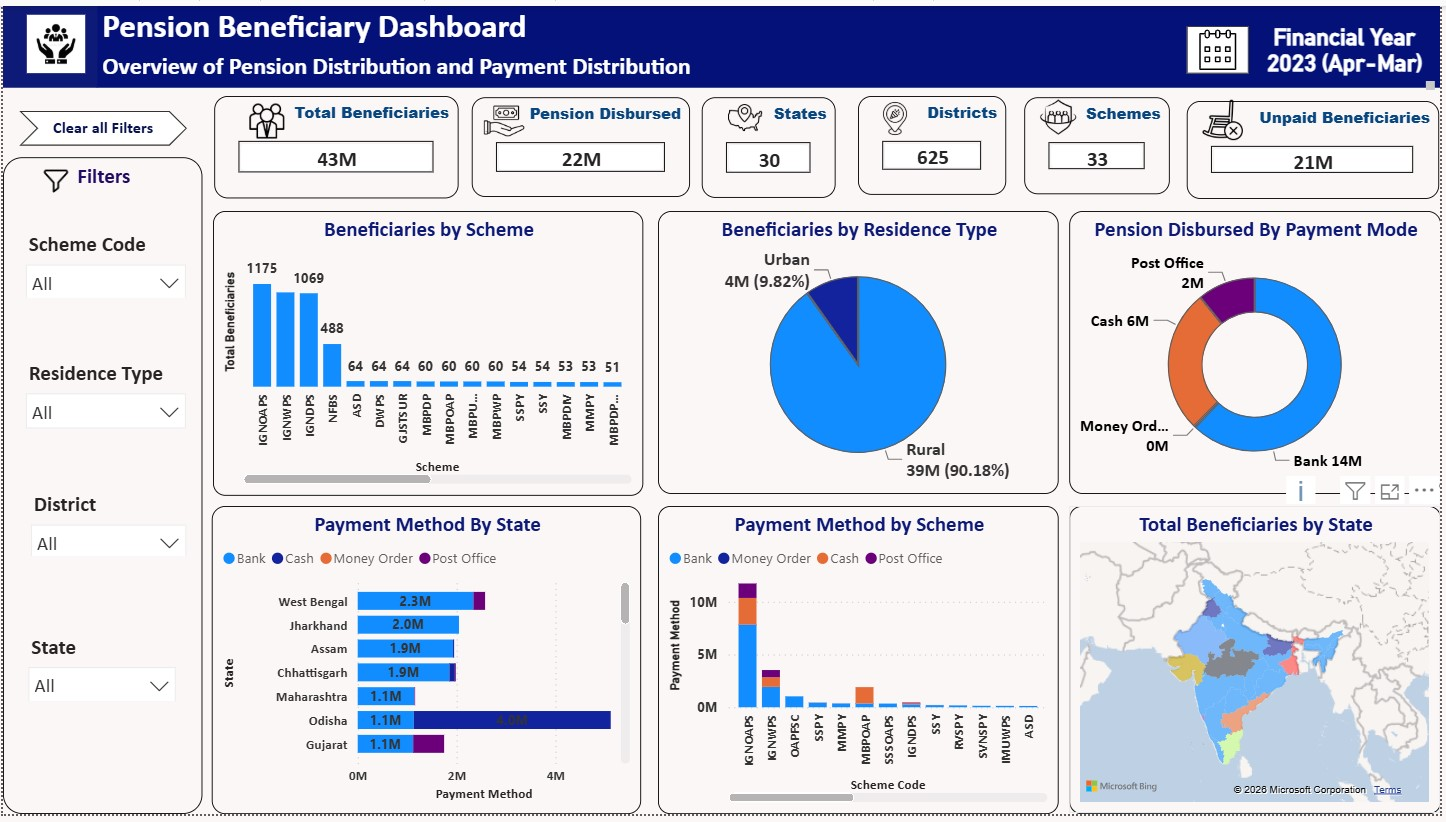

The dashboard page shown, as its layout file describes it:
{"tool":"powerbi","page":{"name":"Page 1","canvas":[1280,720],"ordinal":0},"visuals":[{"type":"textbox","title":"Pension Beneficiary Dashboard","box":[83.7,0,1196.6,72.7],"z":0},{"type":"cardVisual","title":"Pension Disbursed","fields":{"Data":["Measure Table.Total Payments"]},"box":[417.4,81.5,194.6,89.1],"z":1000},{"type":"cardVisual","title":"Districts","fields":{"Data":["Measure Table.Total District"]},"box":[761.7,80.2,132.1,87.7],"z":2000},{"type":"cardVisual","title":"States","fields":{"Data":["Measure Table.Total States"]},"box":[622.1,81.8,119.5,89.6],"z":3000},{"type":"cardVisual","title":"Schemes","fields":{"Data":["Measure Table.Total Schemes"]},"box":[909.9,81.5,129.6,86.4],"z":4000},{"type":"textbox","title":"Financial Year 2023 (Apr-Mar)","box":[1108.8,15.1,171.5,64.5],"z":5000},{"type":"image","box":[1053.9,17.8,54.9,42.5],"z":6000},{"type":"textbox","box":[0,0,83.7,72.7],"z":7000},{"type":"image","box":[9.6,8.2,74.1,52.1],"z":8000},{"type":"cardVisual","title":"Total Beneficiaries","fields":{"Data":["Measure Table.Total Beneficieries"]},"box":[187.7,80.2,217.3,91.4],"z":9000},{"type":"pieChart","title":"Beneficiaries by Residence Type","fields":{"Y":["Measure Table.Total Beneficieries"],"Category":["Pension.Residence Type"]},"box":[583.1,183.1,357.1,251.9],"z":10000},{"type":"donutChart","title":"Pension Disbursed By Payment Mode","fields":{"Y":["Measure Table.Bank","Measure Table.Money Order","Measure Table.Cash","Measure Table.Post Office"]},"box":[949.4,183.1,331.2,251.9],"z":11000},{"type":"barChart","title":"Payment Method By State","fields":{"Category":["Pension.State"],"Y":["Measure Table.Bank","Measure Table.Cash","Measure Table.Money Order","Measure Table.Post Office"]},"box":[186.4,445.7,382.7,274.1],"z":12000},{"type":"textbox","title":"Filters","box":[0,135.1,177.9,584.4],"z":13000},{"type":"image","box":[30.8,142.9,31.9,25.3],"z":14000},{"type":"slicer","fields":{"Values":["Pension.Scheme Code"]},"box":[9.9,195.6,162.6,63.7],"z":15000},{"type":"actionButton","box":[14.8,93.8,149.4,30.9],"z":16000},{"type":"slicer","fields":{"Values":["Pension.Residence Type"]},"box":[9.9,311,162.6,73.6],"z":17000},{"type":"slicer","fields":{"Values":["Pension.State"]},"box":[12.1,553.8,151.6,64.8],"z":18000},{"type":"image","box":[207.6,87,53.3,31.5],"z":19000},{"type":"image","box":[417.4,82.6,57.6,40.2],"z":20000},{"type":"image","box":[640.3,84.4,41.6,29.9],"z":21000},{"type":"image","box":[775.3,84.4,39,31.2],"z":22000},{"type":"image","box":[922.2,80.2,35.8,37],"z":23000},{"type":"cardVisual","title":"Unpaid Beneficiaries","fields":{"Data":["Sum(Pension.Beneficiaries Without Pension Payment)"]},"box":[1054.5,84.4,224.7,87],"z":24000},{"type":"image","box":[1064.2,84,44.4,35.8],"z":25000},{"type":"slicer","fields":{"Values":["Pension.District"]},"box":[14.3,427.3,158.4,62.3],"z":26000},{"type":"clusteredColumnChart","title":"Beneficiaries by Scheme","fields":{"Category":["Pension.Scheme Code"],"Y":["CountNonNull(Pension.Total Number Of Beneficiaries)"]},"box":[187,183.1,383.1,253.2],"z":27000},{"type":"columnChart","title":"Payment Method by Scheme","fields":{"Category":["Pension.Scheme Code"],"Y":["Measure Table.Bank","Measure Table.Money Order","Measure Table.Cash","Measure Table.Post Office"]},"box":[583.1,445.5,357.1,274],"z":28000},{"type":"filledMap","title":"Total Beneficiaries by State","fields":{"Category":["Pension.State"],"Series":["Pension.Total Number Of Beneficiaries"]},"box":[949.4,445.5,331.2,274],"z":29000}]}

Visuals, with their boxes in screenshot pixels (x1, y1, x2, y2), scaled from the page's 1280x720 canvas onto the 1446x822 screenshot:
"Pension Beneficiary Dashboard" textbox: <region>95, 0, 1445, 83</region>
"Pension Disbursed" cardVisual: <region>472, 93, 691, 195</region>
"Districts" cardVisual: <region>860, 92, 1010, 192</region>
"States" cardVisual: <region>703, 93, 838, 196</region>
"Schemes" cardVisual: <region>1028, 93, 1174, 192</region>
"Financial Year 2023 (Apr-Mar)" textbox: <region>1253, 17, 1445, 91</region>
image: <region>1191, 20, 1253, 69</region>
textbox: <region>0, 0, 95, 83</region>
image: <region>11, 9, 95, 69</region>
"Total Beneficiaries" cardVisual: <region>212, 92, 458, 196</region>
"Beneficiaries by Residence Type" pieChart: <region>659, 209, 1062, 497</region>
"Pension Disbursed By Payment Mode" donutChart: <region>1073, 209, 1445, 497</region>
"Payment Method By State" barChart: <region>211, 509, 643, 821</region>
"Filters" textbox: <region>0, 154, 201, 821</region>
image: <region>35, 163, 71, 192</region>
slicer - Pension.Scheme Code: <region>11, 223, 195, 296</region>
actionButton: <region>17, 107, 185, 142</region>
slicer - Pension.Residence Type: <region>11, 355, 195, 439</region>
slicer - Pension.State: <region>14, 632, 185, 706</region>
image: <region>235, 99, 295, 135</region>
image: <region>472, 94, 537, 140</region>
image: <region>723, 96, 770, 130</region>
image: <region>876, 96, 920, 132</region>
image: <region>1042, 92, 1082, 134</region>
"Unpaid Beneficiaries" cardVisual: <region>1191, 96, 1445, 196</region>
image: <region>1202, 96, 1252, 137</region>
slicer - Pension.District: <region>16, 488, 195, 559</region>
"Beneficiaries by Scheme" clusteredColumnChart: <region>211, 209, 644, 498</region>
"Payment Method by Scheme" columnChart: <region>659, 509, 1062, 821</region>
"Total Beneficiaries by State" filledMap: <region>1073, 509, 1445, 821</region>
